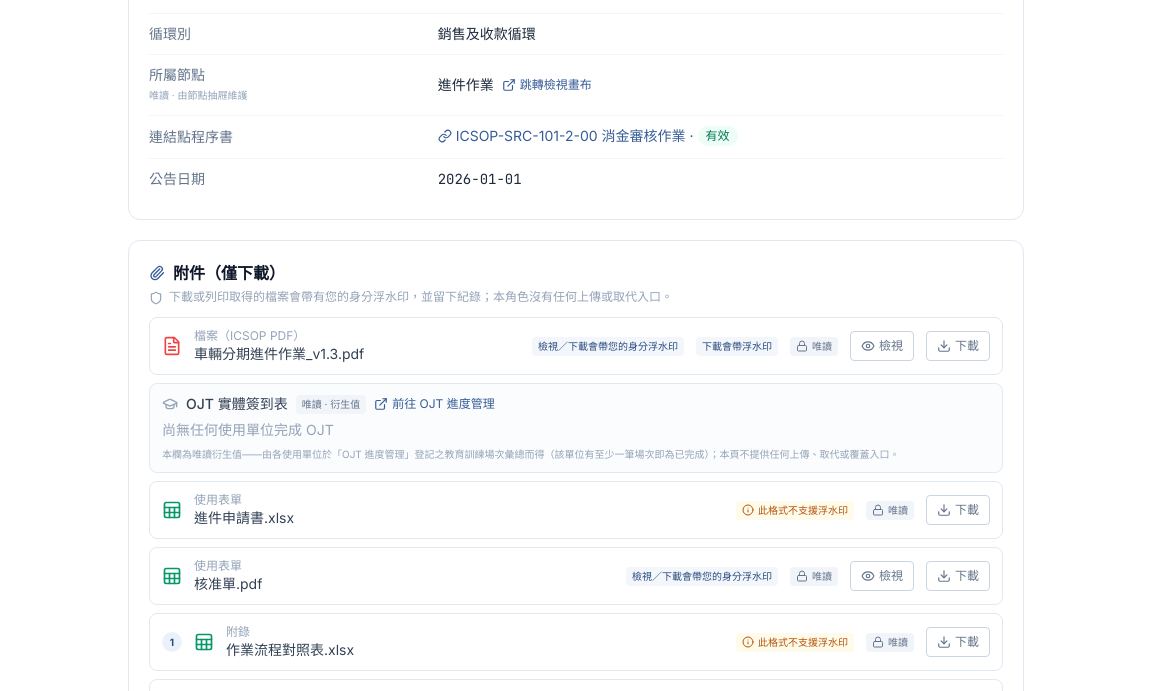
Scenario: DocumentReadonlyPage — F016 唯讀檢視（移植 prototype 16） › F039 附錄依 sortOrder 遞增呈現（prototype 16） › 🔵 F016 AC-AV1／AC-AV2 附件「檢視」（僅 PDF） › 檢視失敗 ⇒ 顯示「檢視失敗，請稍後再試。」
This screenshot has width=1152, height=691.
(page scrolled)
Expected: the text "車輛分期進件作業_v1.3.pdf" is shown, [194,345,364,362]
Click the button "檢視" in the row of "下載會帶浮水印": (882, 346) [850,331,914,361]
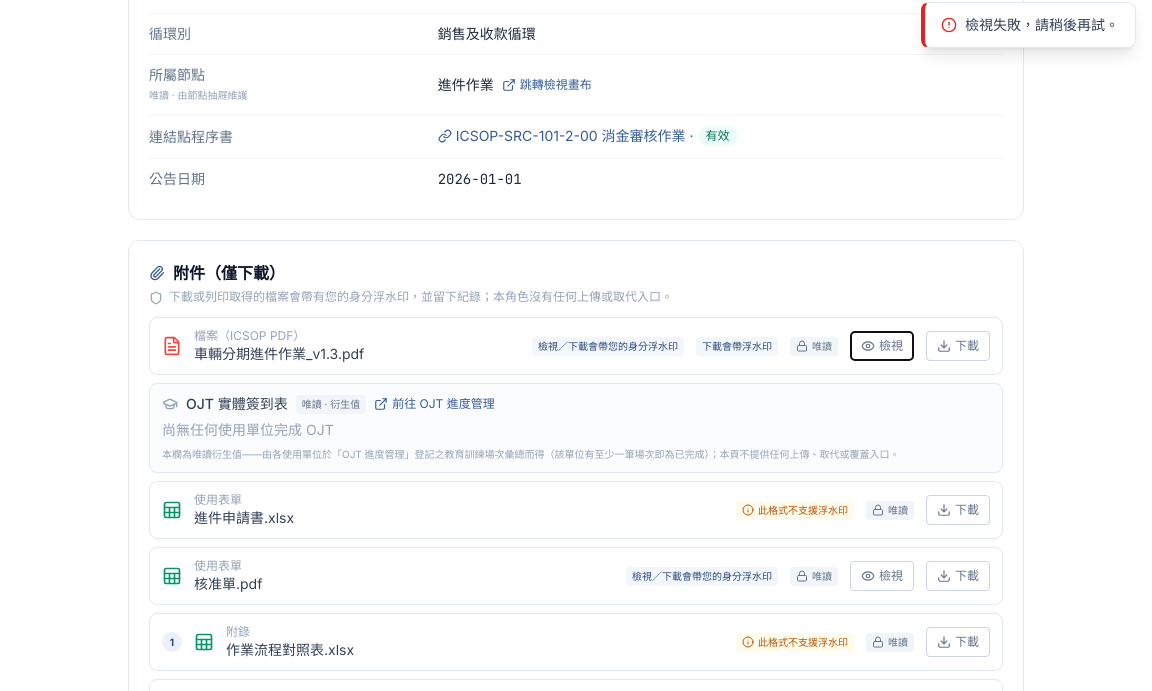
Expected: the text "檢視失敗，請稍後再試。" is shown, [965,15,1119,35]
